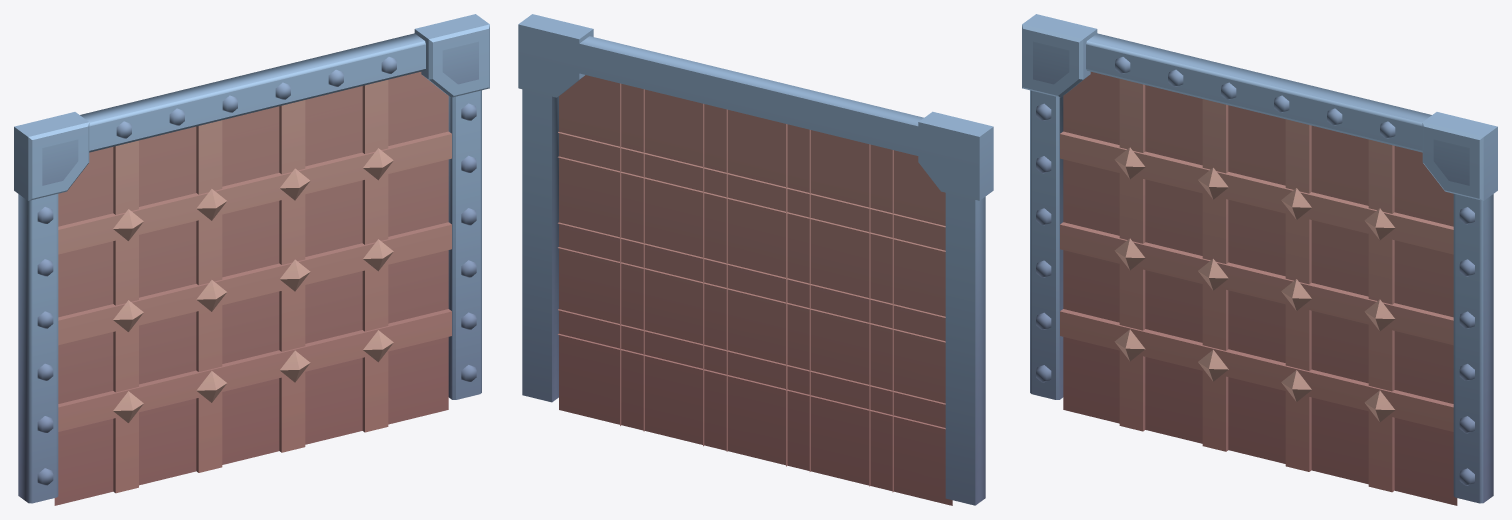
Rendered from GateWall.fbx.
3 views of the same model, side by side, from view 1: azimuth 30°, elevation 25°; view 2: azimuth 150°, elevation 25°; view 3: azimuth 330°, elevation 25° (orthographic).
Visible parts, largest first — view 1: Plane.001; view 2: Plane.001; view 3: Plane.001.
Part boxes in pixels (left/top/right/bottom): Plane.001: left=14, top=14, right=489, bottom=505; Plane.001: left=518, top=14, right=993, bottom=505; Plane.001: left=1022, top=14, right=1497, bottom=505.
Size of the model in its own units: 392 by 311 by 23.07.
